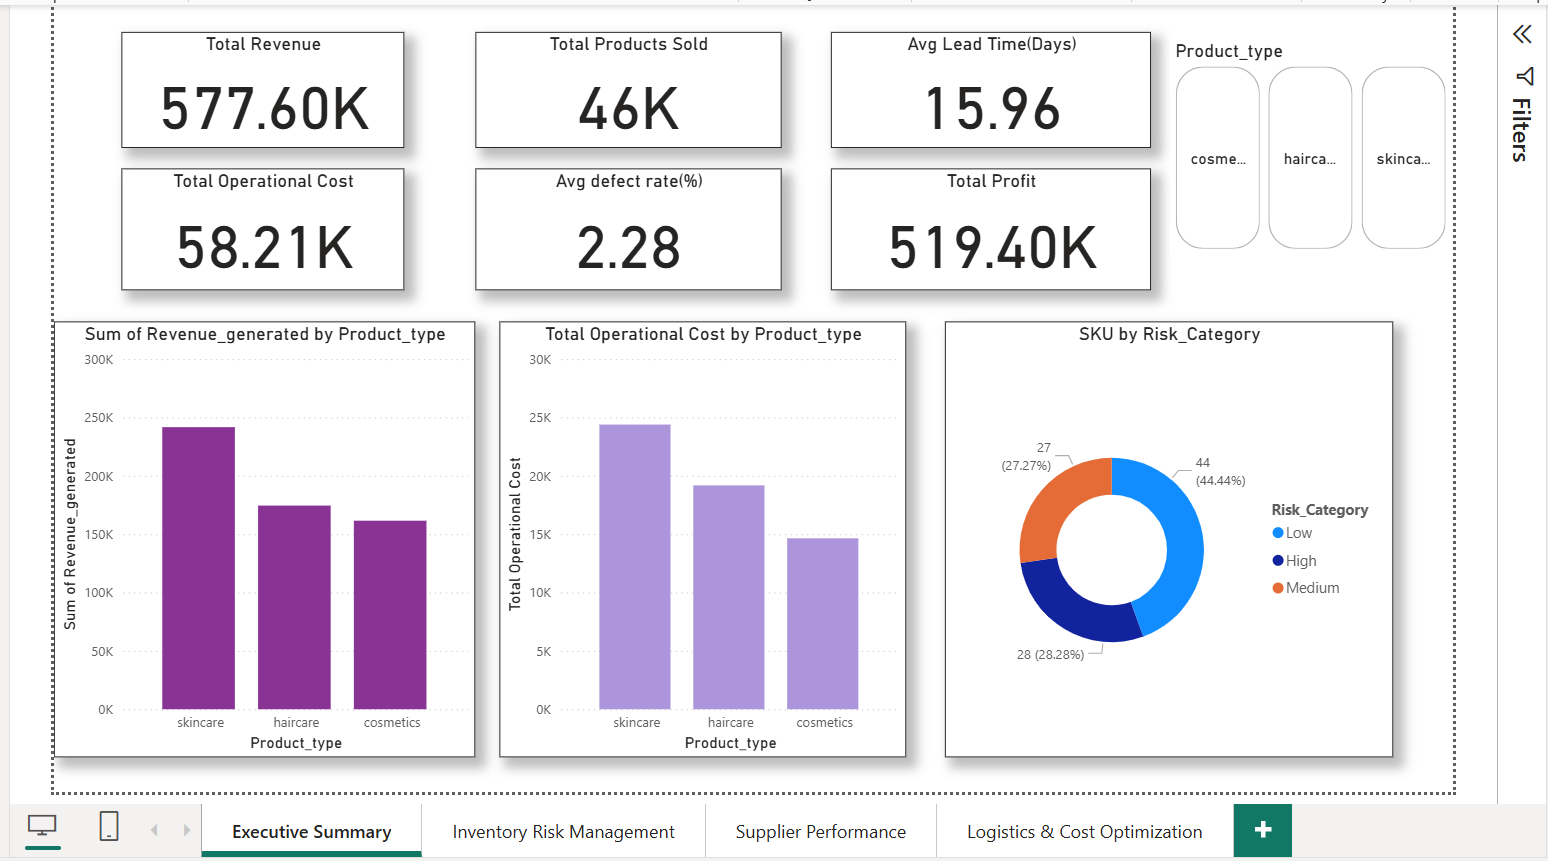

The dashboard page shown, as its layout file describes it:
{"tool":"powerbi","page":{"name":"Executive Summary","canvas":[1280,720],"ordinal":0},"visuals":[{"type":"card","title":"Total Revenue","fields":{"Values":["supply_chain.Total Revenue"]},"box":[62.4,24.6,258.9,105.8],"z":0},{"type":"card","title":"Total Products Sold","fields":{"Values":["supply_chain.Total Products Sold"]},"box":[385.5,24.6,279.7,105.8],"z":1000},{"type":"card","title":"Avg Lead Time(Days)","fields":{"Values":["supply_chain.Avg Lead Time"]},"box":[710.6,24.6,292.9,105.8],"z":2000},{"type":"card","title":"Avg defect rate(%)","fields":{"Values":["supply_chain.Avg Defect Rate"]},"box":[385.5,149.3,279.7,111.5],"z":3000},{"type":"textbox","box":[21,289.5,210,150],"z":4000},{"type":"card","title":"Total Operational Cost","fields":{"Values":["Sum(supply_chain.Total_Operational_Cost)"]},"box":[62.4,149.3,258.9,111.5],"z":5000},{"type":"clusteredColumnChart","fields":{"Category":["supply_chain.Product_type"],"Y":["Sum(supply_chain.Revenue_generated)"]},"box":[0,289.1,385.5,398.7],"z":6000},{"type":"columnChart","fields":{"Category":["supply_chain.Product_type"],"Y":["supply_chain.Total Operational Cost"]},"box":[408.2,289.1,372.3,398.7],"z":7000},{"type":"donutChart","title":" SKU by Risk_Category","fields":{"Category":["supply_chain.Risk_Category"],"Y":["CountNonNull(supply_chain.SKU)"]},"box":[814.5,289.1,410.1,398.7],"z":8000},{"type":"card","title":"Total Profit ","fields":{"Values":["supply_chain.Total Profit"]},"box":[710.6,149.3,292.9,111.5],"z":9000},{"type":"advancedSlicerVisual","fields":{"Values":["supply_chain.Product_type"]},"box":[1020.5,32.1,258.9,196.5],"z":10000}]}

Visuals, with their boxes on the page's 1280x720 design canvas (x1, y1, x2, y2). These are canvas units, not pixel positions in the 1548x861 screenshot, which may show the page scaled, cropped or inside an application window:
"Total Revenue" card: l=62, t=25, r=321, b=130
"Total Products Sold" card: l=386, t=25, r=665, b=130
"Avg Lead Time(Days)" card: l=711, t=25, r=1004, b=130
"Avg defect rate(%)" card: l=386, t=149, r=665, b=261
textbox: l=21, t=290, r=231, b=440
"Total Operational Cost" card: l=62, t=149, r=321, b=261
clusteredColumnChart - supply_chain.Product_type x Sum(supply_chain.Revenue_generated): l=0, t=289, r=386, b=688
columnChart - supply_chain.Product_type x supply_chain.Total Operational Cost: l=408, t=289, r=780, b=688
" SKU by Risk_Category" donutChart: l=814, t=289, r=1225, b=688
"Total Profit " card: l=711, t=149, r=1004, b=261
advancedSlicerVisual - supply_chain.Product_type: l=1020, t=32, r=1279, b=229
